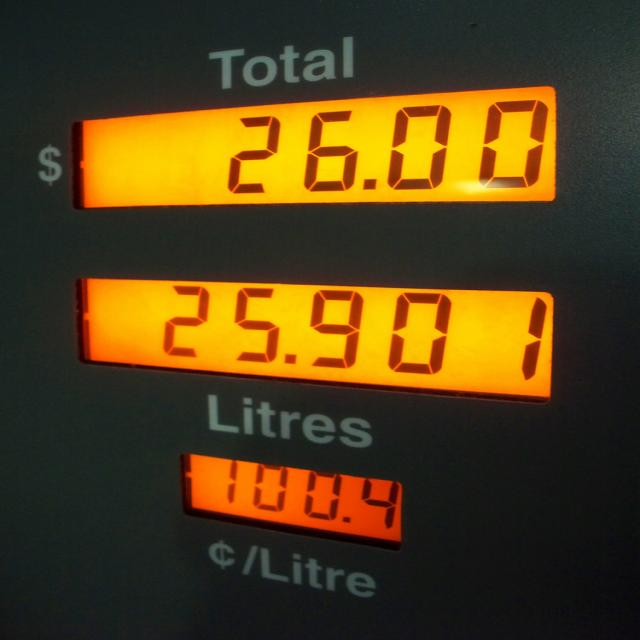no_fire: (45, 80, 595, 256), (47, 280, 619, 414), (111, 458, 459, 539)
